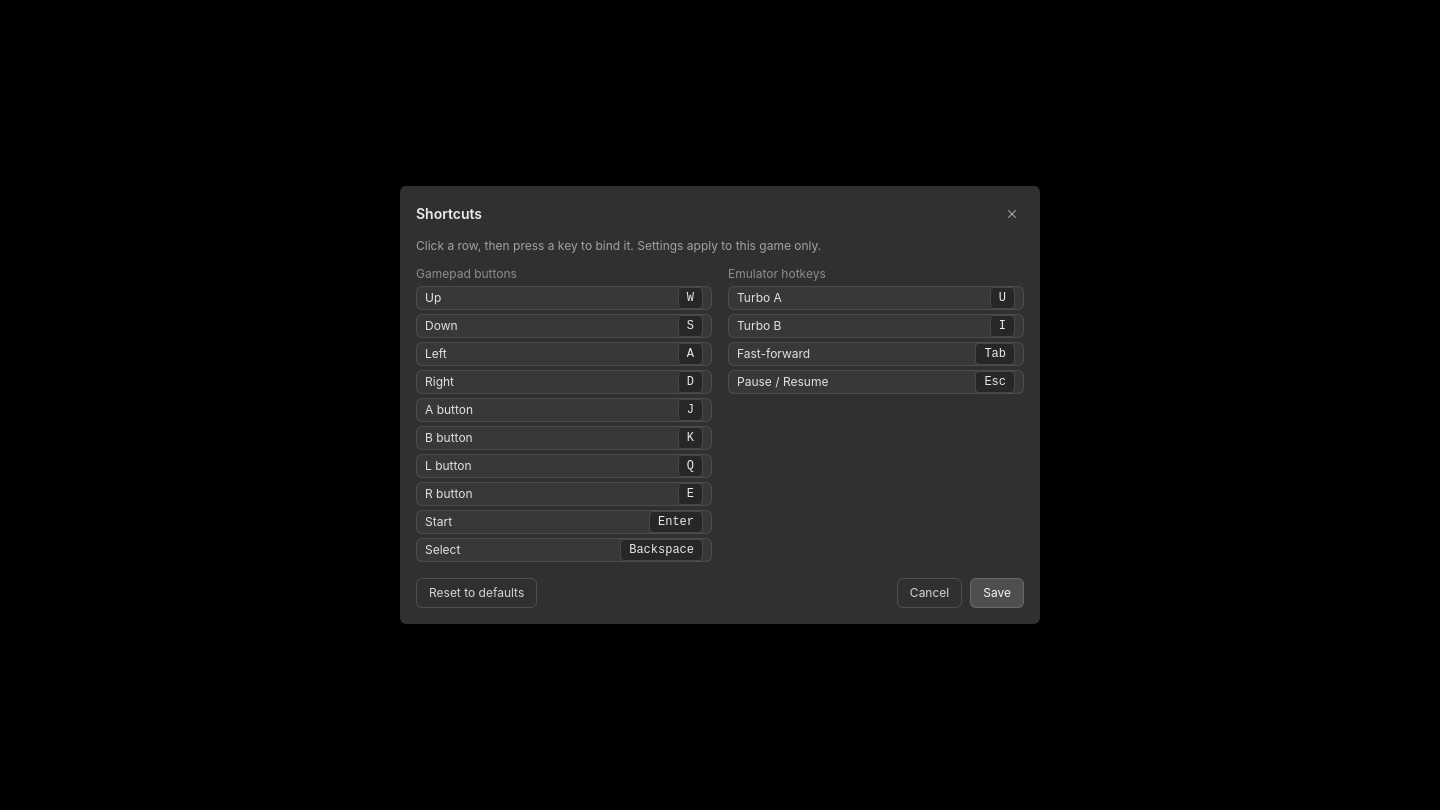
Test: GameKeymapPanel › 捕获态下 ESC 作为绑定目标，不触发关闭
The image size is (1440, 810).
Click the button "Pause / Resume Esc" at (783, 382), box left=728, top=370, right=1024, bottom=394
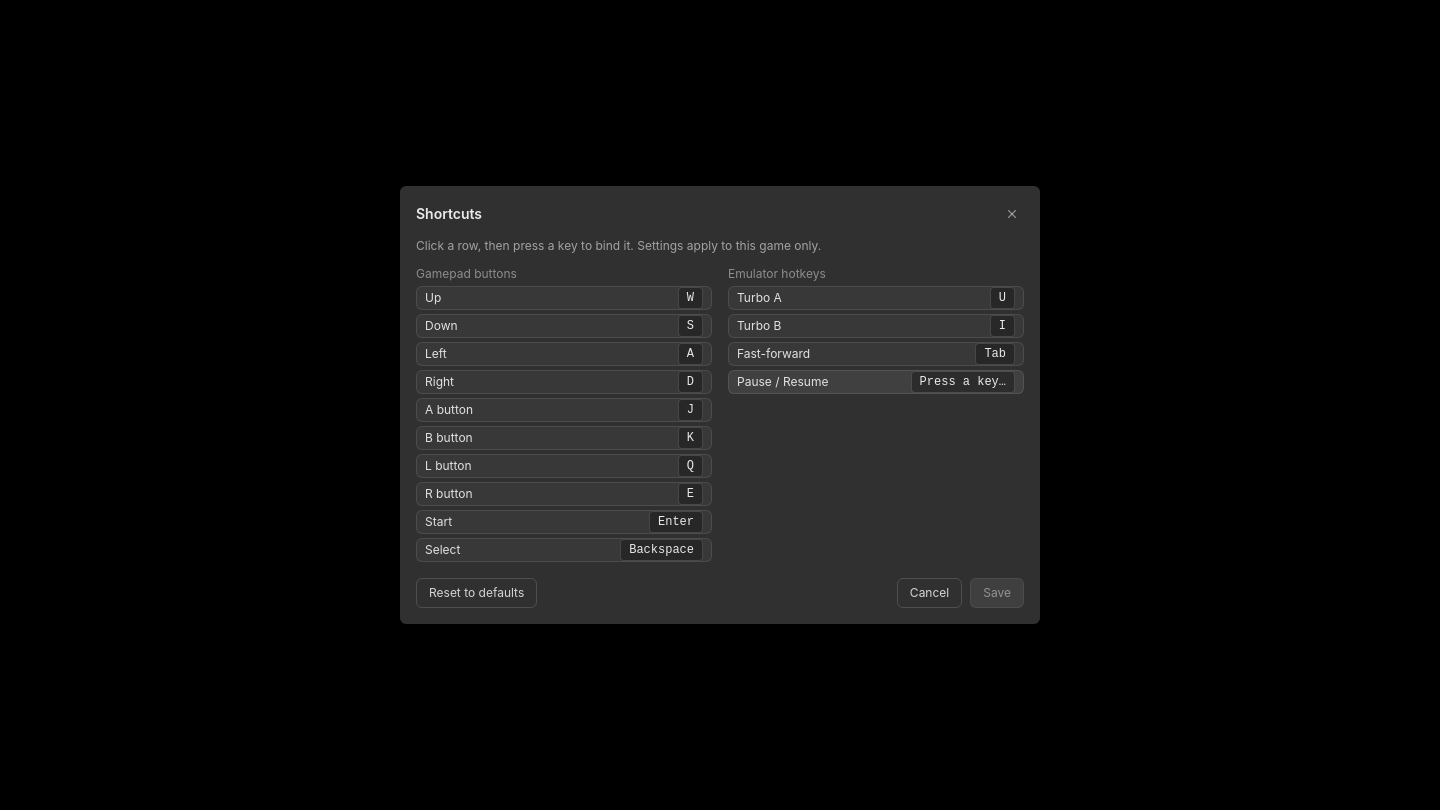
Press KeyP
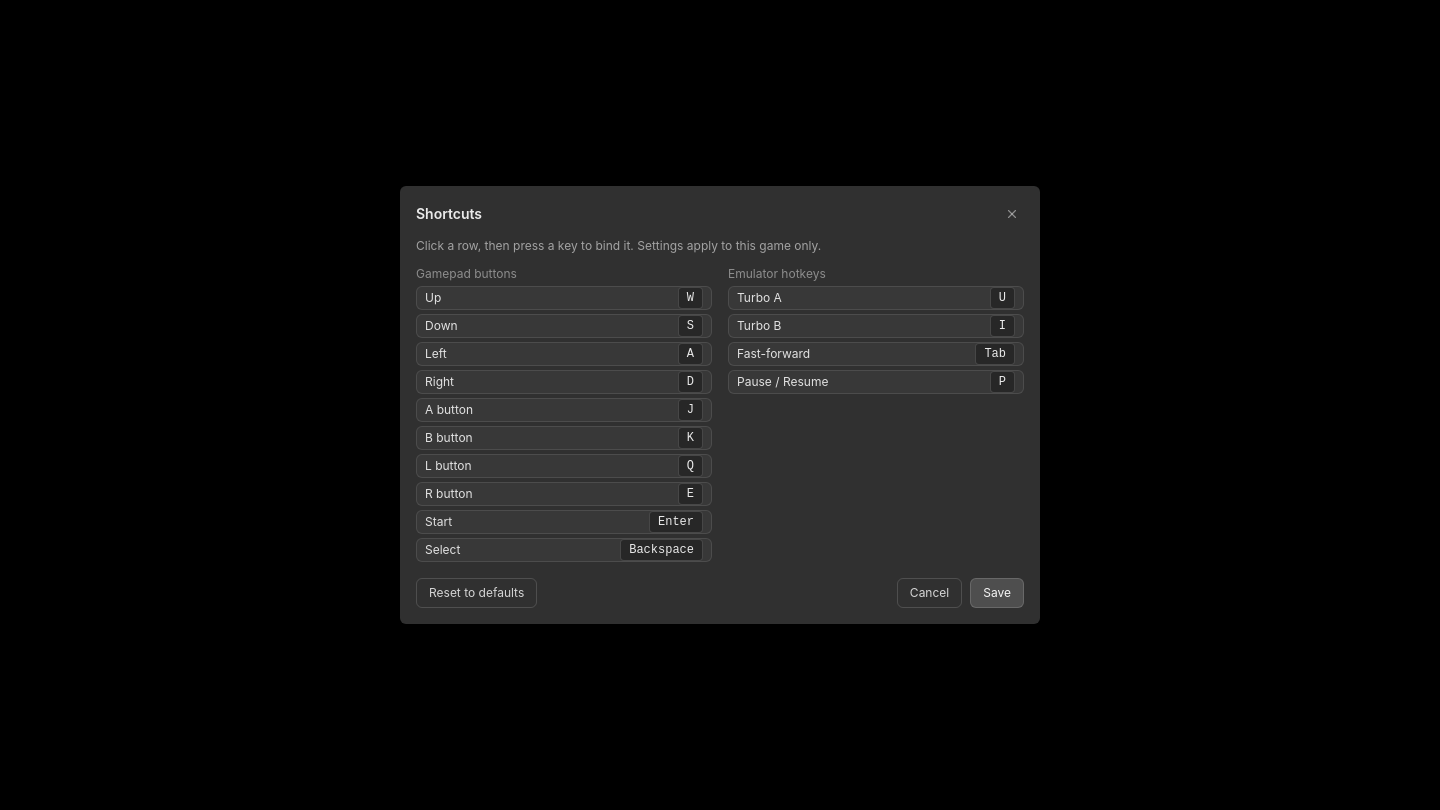
Click the button "Pause / Resume P" at (783, 382), box left=728, top=370, right=1024, bottom=394
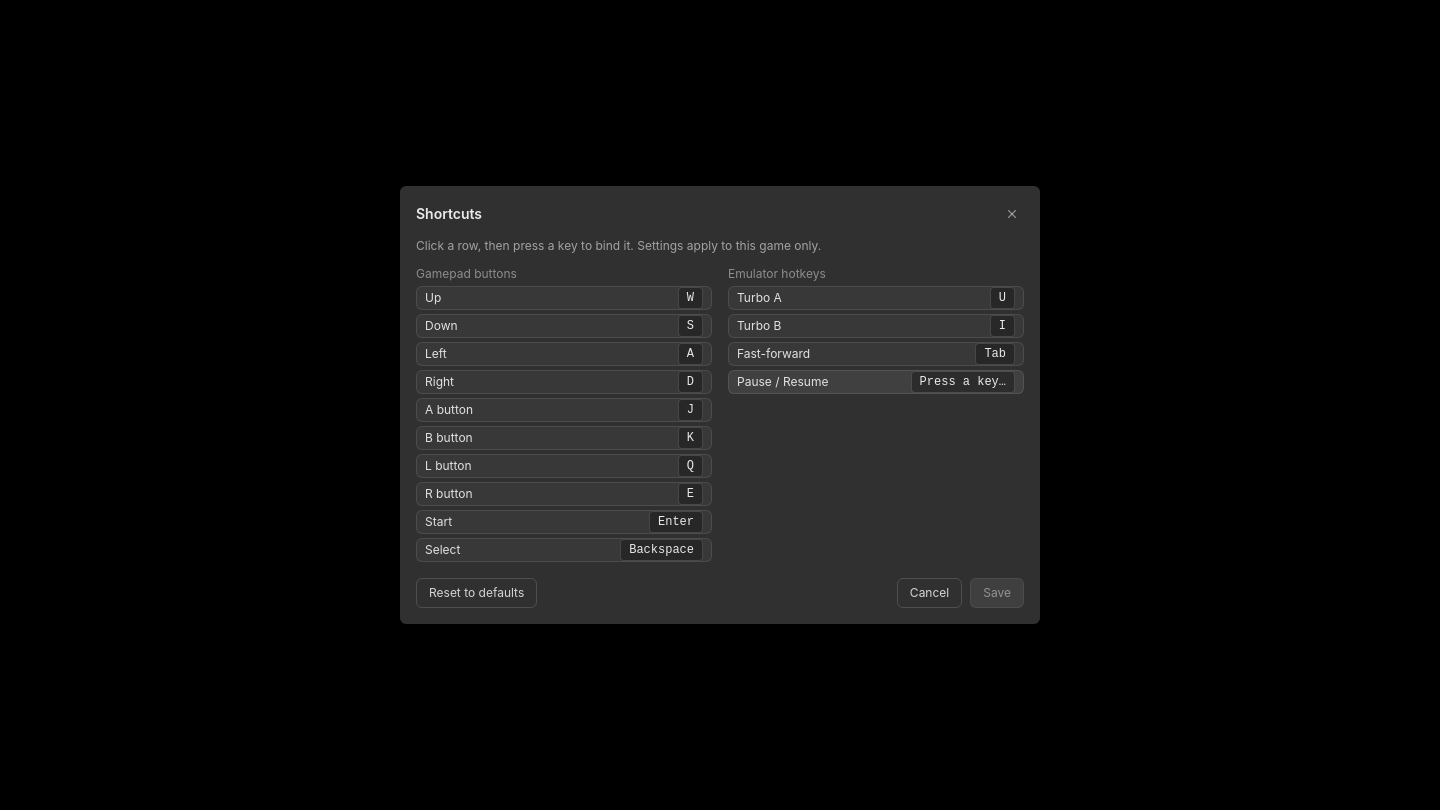
Press Escape
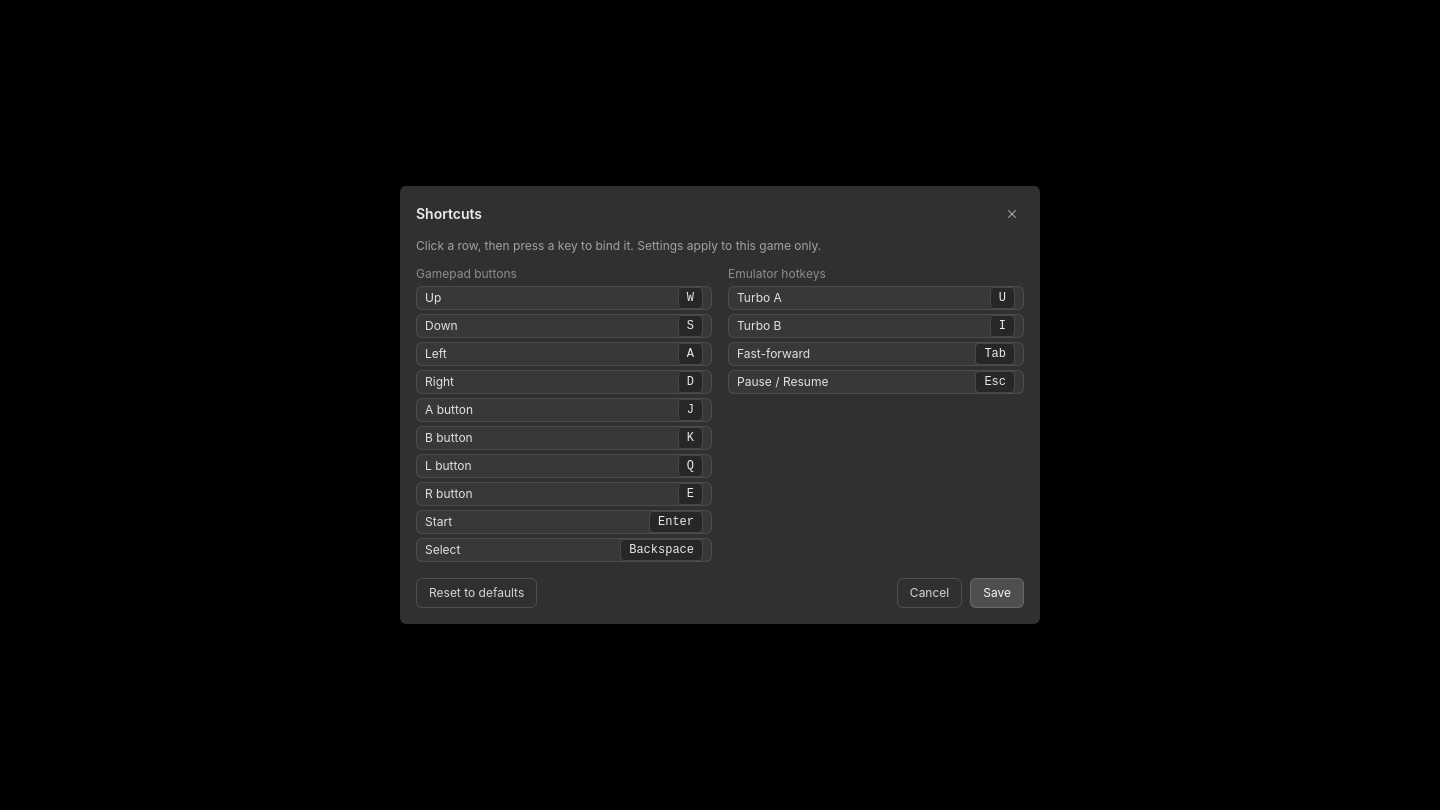
Check: the text "Esc" is shown, box left=975, top=371, right=1015, bottom=393
